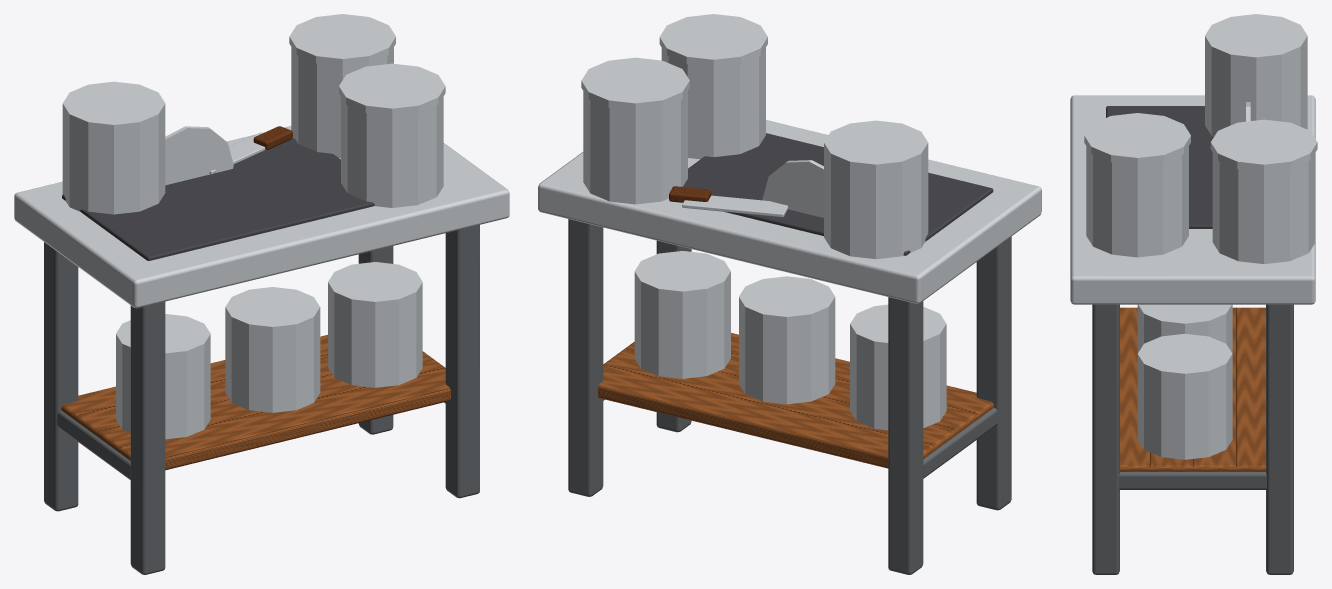
Rendered from printing-press-and-newspaper-office-ink-cans-and-slab-4e0307aa__37742.glb.
The picture shows the model from 3 angles, left to right: view 1: azimuth 30°, elevation 25°; view 2: azimuth 150°, elevation 25°; view 3: azimuth 270°, elevation 25°; orthographic projection.
Visible parts, largest first — view 1: ink-cans-and-slab; view 2: ink-cans-and-slab; view 3: ink-cans-and-slab.
Boxes of the visible parts, box(x1,y1,x2,y2) form: ink-cans-and-slab: box(14, 14, 509, 574); ink-cans-and-slab: box(538, 14, 1041, 574); ink-cans-and-slab: box(1070, 14, 1317, 574).
Bounding box in the file's own units: 1.1 × 1.14 × 0.625.
Materials: 5 (2 with a texture image).
